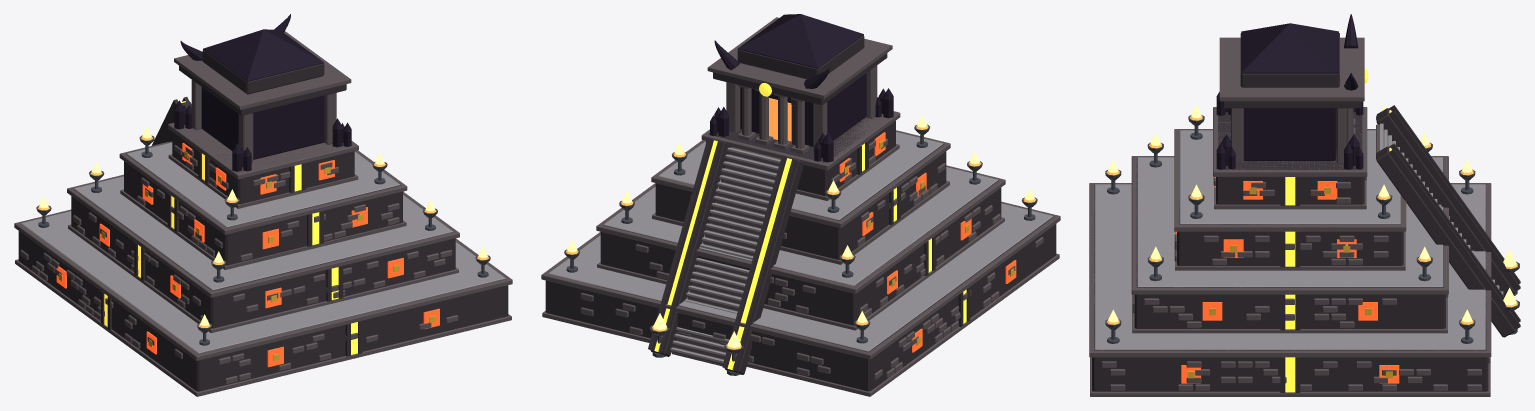
Rendered from ObsidianTemple.fbx.
The picture shows the model from 3 angles, left to right: view 1: azimuth 30°, elevation 25°; view 2: azimuth 150°, elevation 25°; view 3: azimuth 270°, elevation 25°; orthographic projection. The views are drawn at different scales.
Visible parts, largest first — view 1: ObsidianTemple_Basalt, ObsidianTemple, ObsidianTemple_Stone, ObsidianTemple_Obsidian, ObsidianTemple_LavaDim, ObsidianTemple_DarkMetal, ObsidianTemple_Lava, ObsidianTemple_Fire, ObsidianTemple_Gold; view 2: ObsidianTemple_Basalt, ObsidianTemple, ObsidianTemple_Stone, ObsidianTemple_Obsidian, ObsidianTemple_Lava, ObsidianTemple_DarkMetal, ObsidianTemple_LavaDim, ObsidianTemple_Fire, ObsidianTemple_Ember; view 3: ObsidianTemple_Basalt, ObsidianTemple, ObsidianTemple_Stone, ObsidianTemple_Obsidian, ObsidianTemple_DarkMetal, ObsidianTemple_LavaDim, ObsidianTemple_Lava, ObsidianTemple_Fire, ObsidianTemple_Ember, ObsidianTemple_Gold.
Part boxes in pixels (left/top/right/bottom): ObsidianTemple_Basalt: left=18, top=50, right=508, bottom=391; ObsidianTemple: left=14, top=31, right=512, bottom=396; ObsidianTemple_Stone: left=21, top=142, right=505, bottom=353; ObsidianTemple_Obsidian: left=174, top=14, right=351, bottom=171; ObsidianTemple_LavaDim: left=56, top=143, right=439, bottom=367; ObsidianTemple_DarkMetal: left=36, top=135, right=490, bottom=345; ObsidianTemple_Lava: left=104, top=101, right=357, bottom=354; ObsidianTemple_Fire: left=39, top=127, right=487, bottom=325; ObsidianTemple_Gold: left=58, top=150, right=435, bottom=360; ObsidianTemple_Basalt: left=545, top=35, right=1056, bottom=391; ObsidianTemple: left=541, top=17, right=1060, bottom=396; ObsidianTemple_Stone: left=548, top=132, right=1052, bottom=362; ObsidianTemple_Obsidian: left=710, top=14, right=893, bottom=162; ObsidianTemple_Lava: left=654, top=83, right=966, bottom=370; ObsidianTemple_DarkMetal: left=564, top=124, right=1037, bottom=375; ObsidianTemple_LavaDim: left=839, top=132, right=1016, bottom=352; ObsidianTemple_Fire: left=567, top=115, right=1034, bottom=347; ObsidianTemple_Ember: left=566, top=98, right=1035, bottom=349; ObsidianTemple_Basalt: left=1092, top=33, right=1520, bottom=392; ObsidianTemple: left=1089, top=37, right=1491, bottom=396; ObsidianTemple_Stone: left=1095, top=123, right=1503, bottom=349; ObsidianTemple_Obsidian: left=1216, top=14, right=1363, bottom=169; ObsidianTemple_DarkMetal: left=1105, top=115, right=1519, bottom=343; ObsidianTemple_LavaDim: left=1175, top=177, right=1399, bottom=383; ObsidianTemple_Lava: left=1285, top=68, right=1391, bottom=392; ObsidianTemple_Fire: left=1108, top=105, right=1516, bottom=322; ObsidianTemple_Ember: left=1106, top=115, right=1517, bottom=324; ObsidianTemple_Gold: left=1187, top=176, right=1392, bottom=378.
Bounding box in the file's own units: 56.8 × 45.51 × 60.95.
